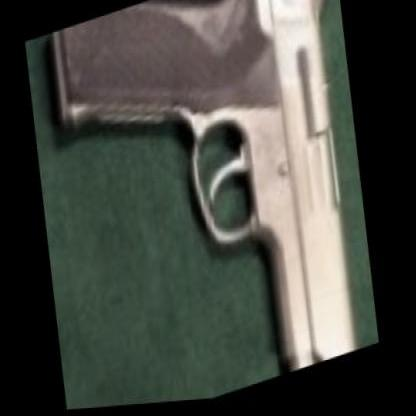pistol: (44, 0, 384, 411)
